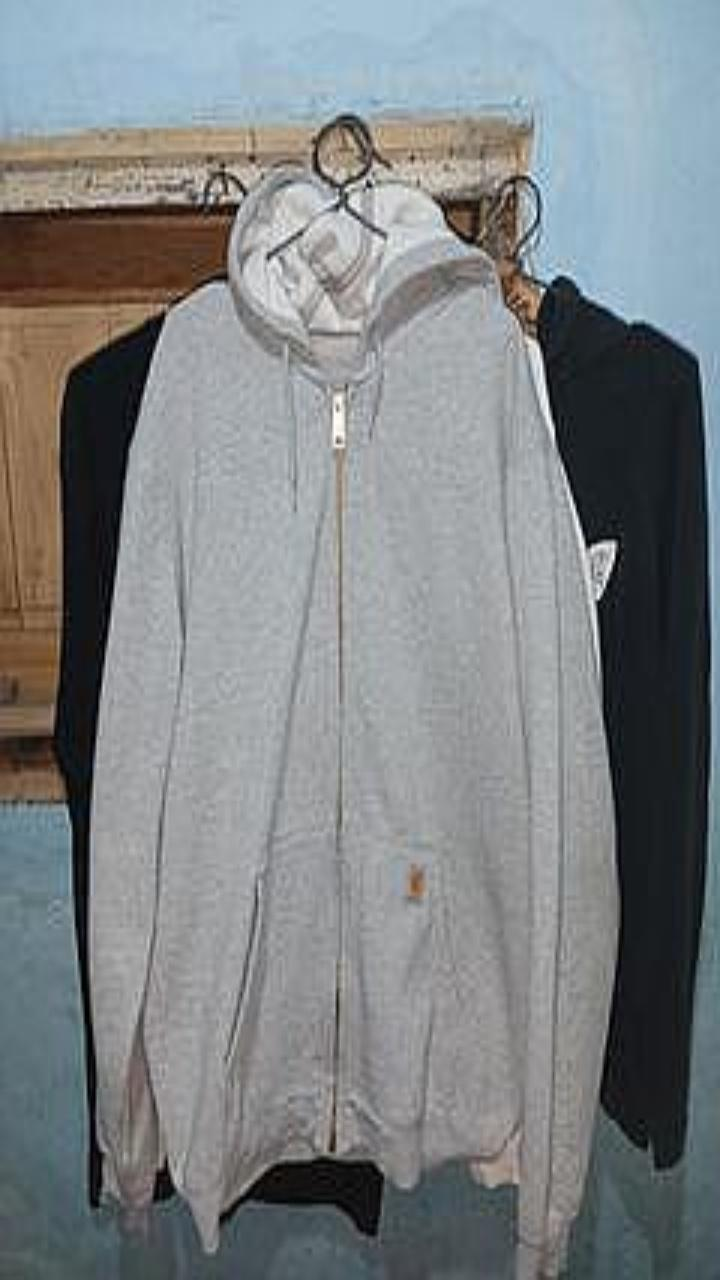Hoodie: (91, 167, 616, 1279)
